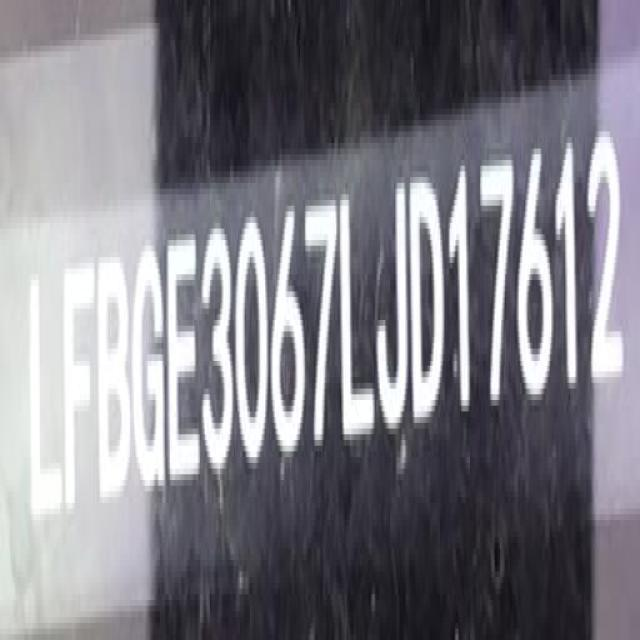0: (236, 214, 272, 474)
1: (450, 149, 474, 429), (555, 126, 578, 408)
2: (590, 121, 626, 396)
3: (203, 221, 236, 485)
5: (273, 198, 306, 466)
6: (520, 136, 555, 414)
7: (479, 146, 514, 426), (305, 182, 338, 463)
B: (96, 249, 134, 506)
D: (412, 159, 445, 435)
E: (170, 230, 204, 496)
F: (61, 256, 95, 527)
G: (135, 242, 169, 498)
J: (378, 170, 412, 442)
L: (27, 270, 65, 534), (342, 180, 377, 450)
